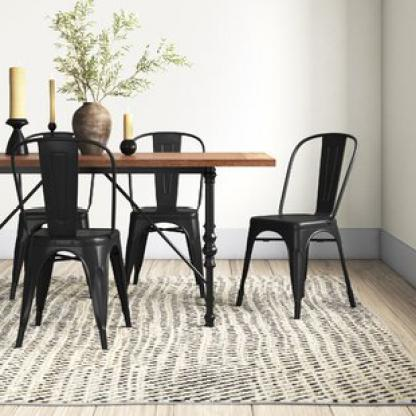chair: (235, 127, 369, 330), (5, 137, 122, 344), (125, 125, 207, 303)
table: (0, 145, 282, 329)
